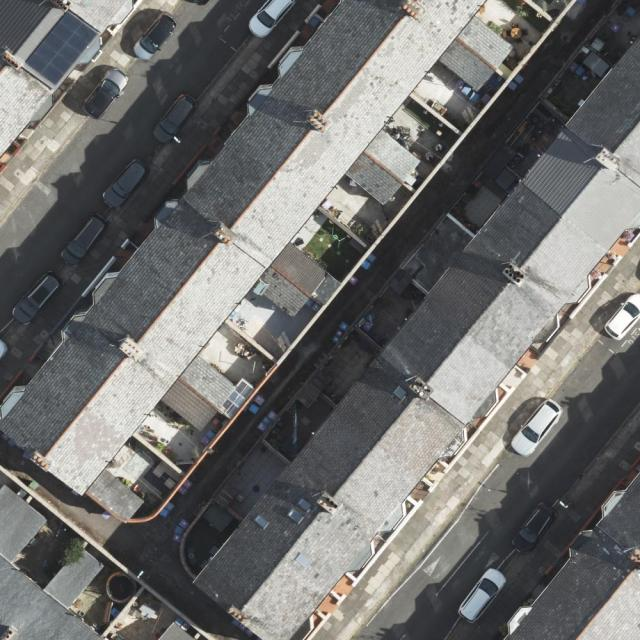roof: (192, 30, 640, 640), (0, 0, 518, 526), (500, 459, 640, 640), (0, 0, 131, 160), (0, 482, 110, 640)
skylight: (292, 549, 314, 568), (295, 497, 316, 515), (286, 509, 306, 527), (392, 385, 409, 403), (253, 513, 270, 529)
solar: (26, 6, 101, 87)
